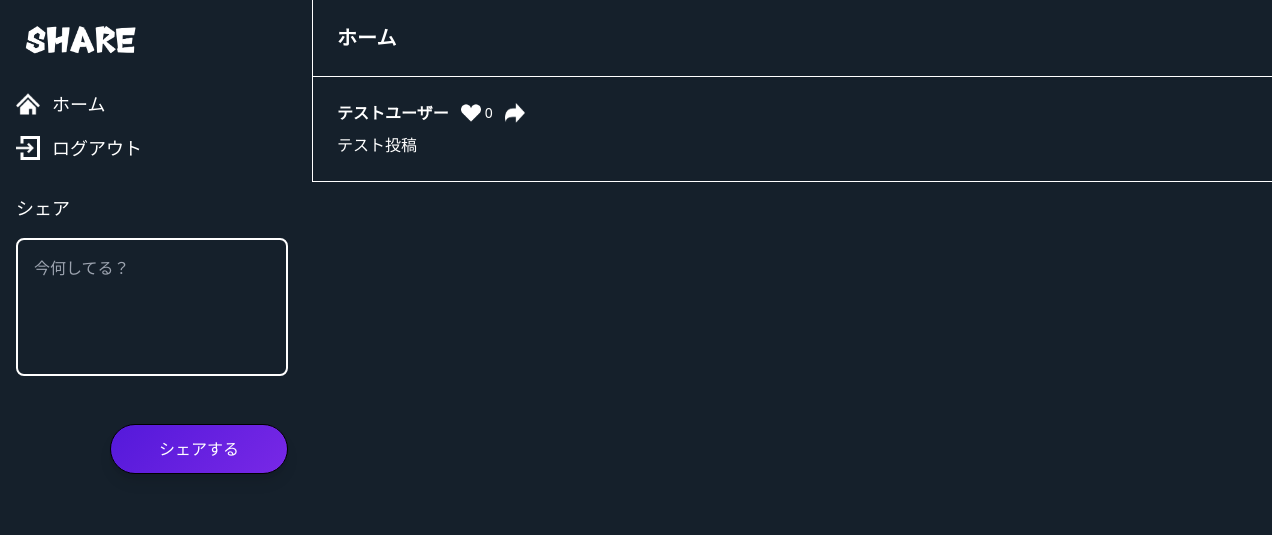
Test: IndexPage - いいね機能統合テスト › 新規投稿が投稿一覧の先頭に表示される
This screenshot has width=1272, height=535.
Type "これは新しいテスト投稿です" into the text box with placeholder "今何してる？" at (152, 304), box [18,240,286,368]
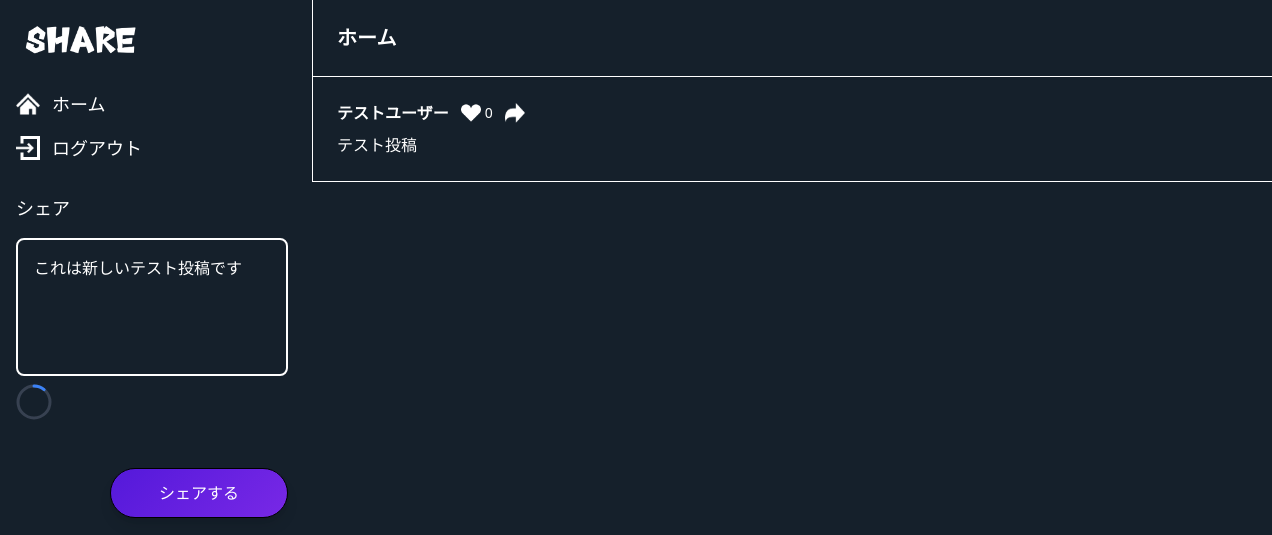
Submit the form, box [16,238,288,518]
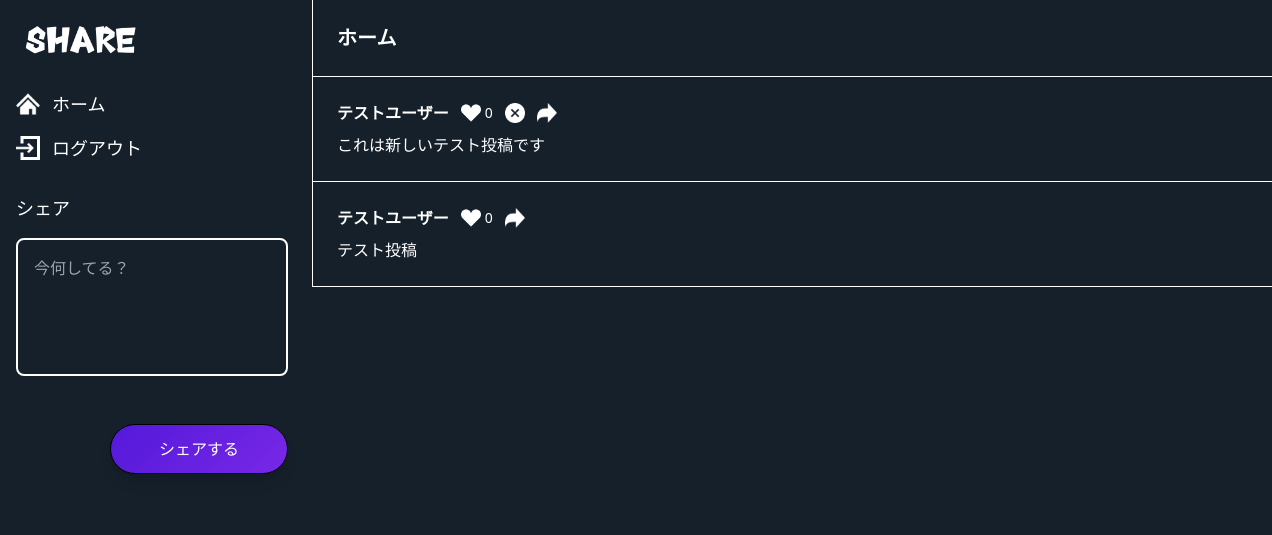
Expected: the text "テスト投稿" is shown, [337,134,545,156]
Expected: the text "これは新しいテスト投稿です" is shown, [337,134,545,156]
